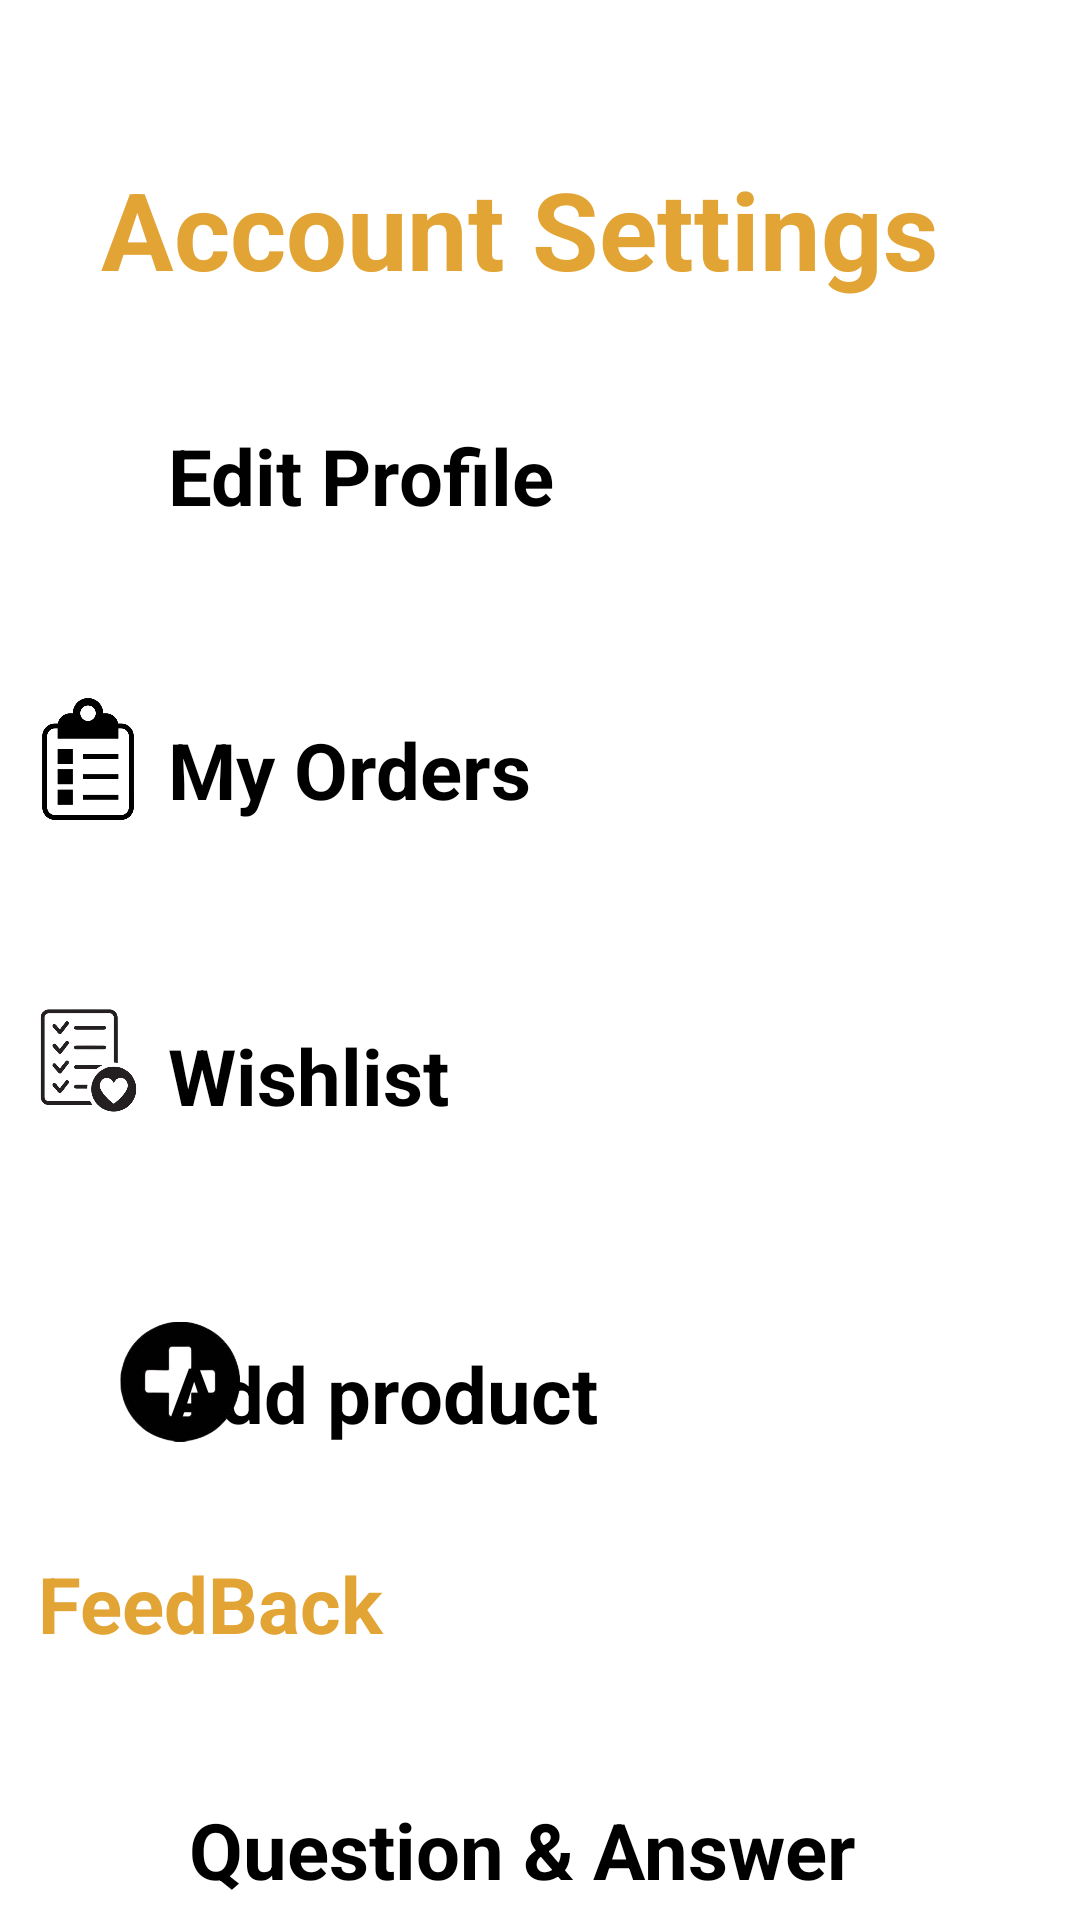

Named icons in this screenshot (1080*1920) and their bounding boxes, region(x1, y1, x2, y2):
ordericon: region(42, 698, 134, 820)
